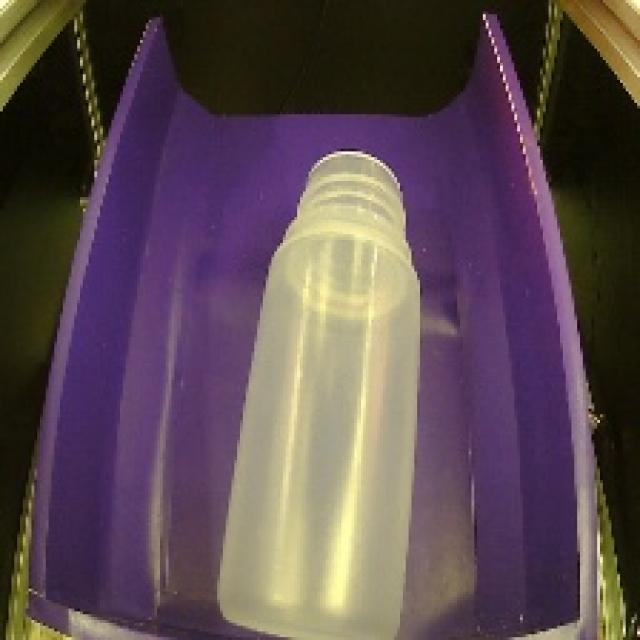plastic: (194, 135, 430, 640)
